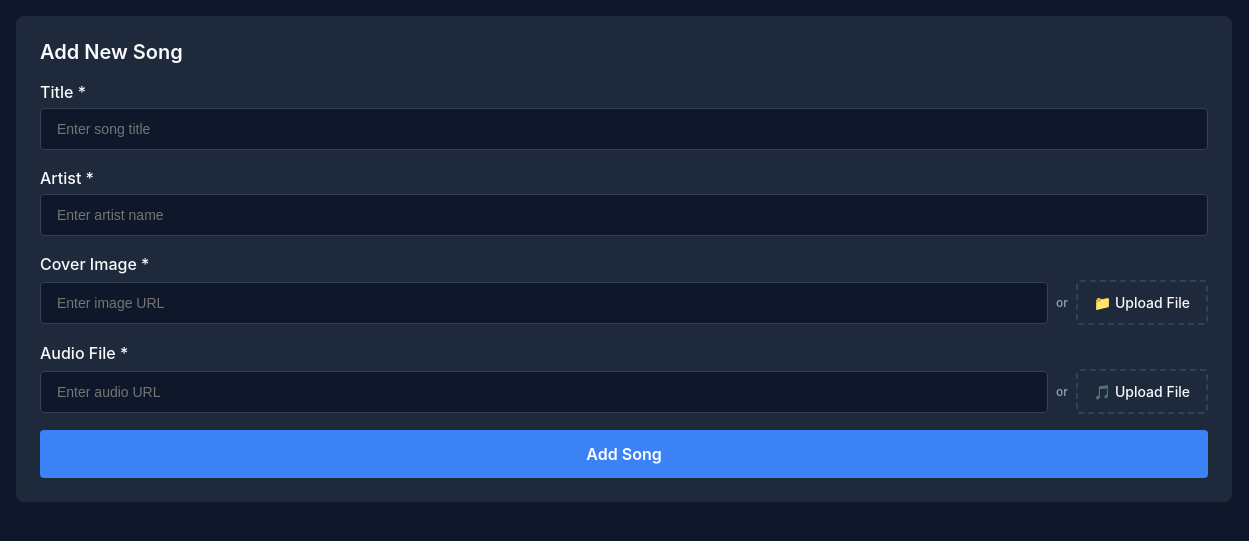
Test: AddSongForm Component › Form Validation - Errors › should show error when title is empty
In the field labelled "Artist *": coordinates (624, 215) [40,194,1208,236], type "Artist"
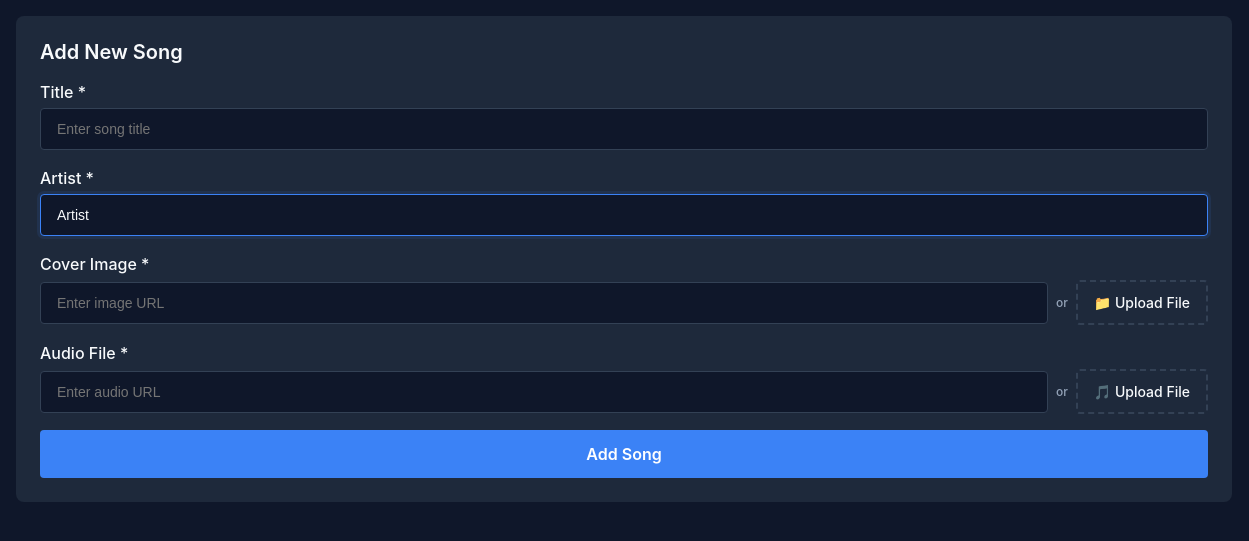
In the field labelled "Cover Image *": coordinates (544, 302) [40,282,1048,324], type "https://example.com/cover.jpg"
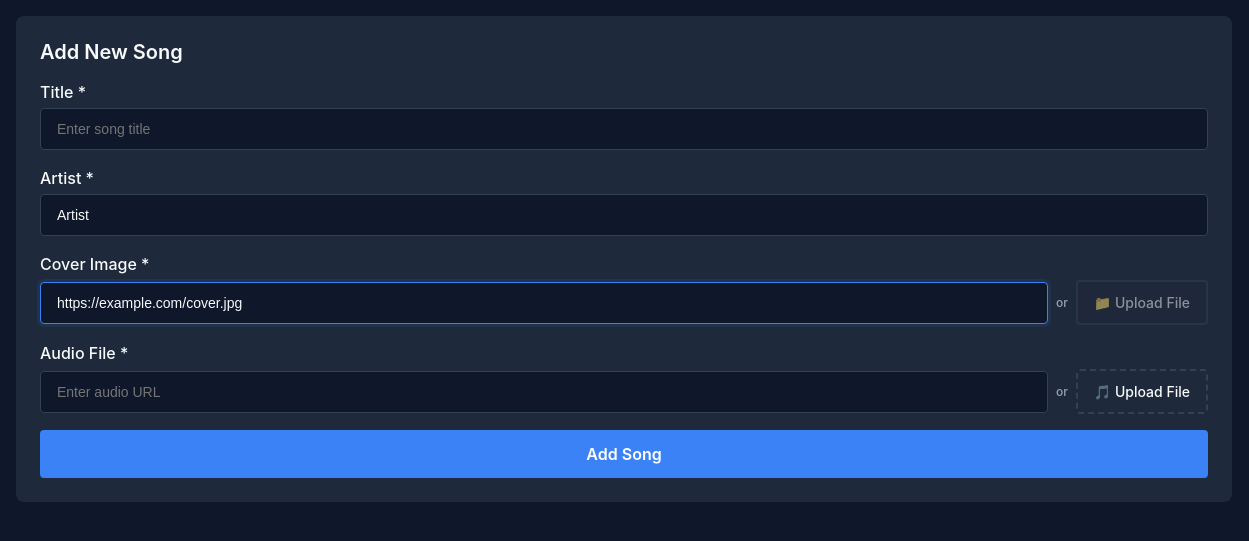
In the field labelled "Audio File *": coordinates (544, 392) [40,370,1048,412], type "https://example.com/song.mp3"
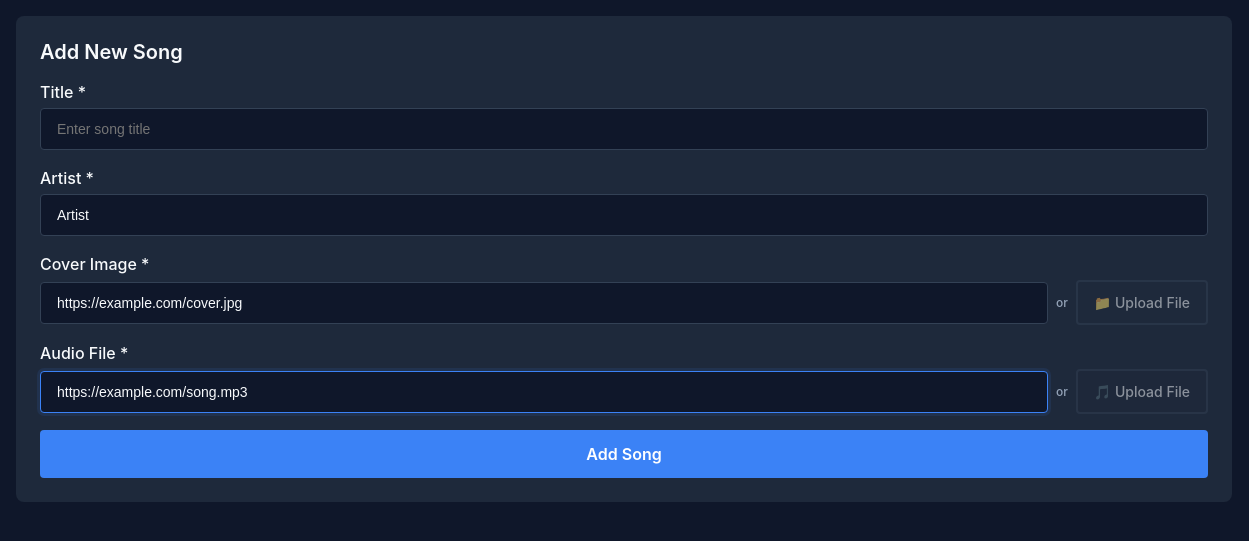
Click the button "Add Song": coordinates (624, 454) [40,430,1208,478]
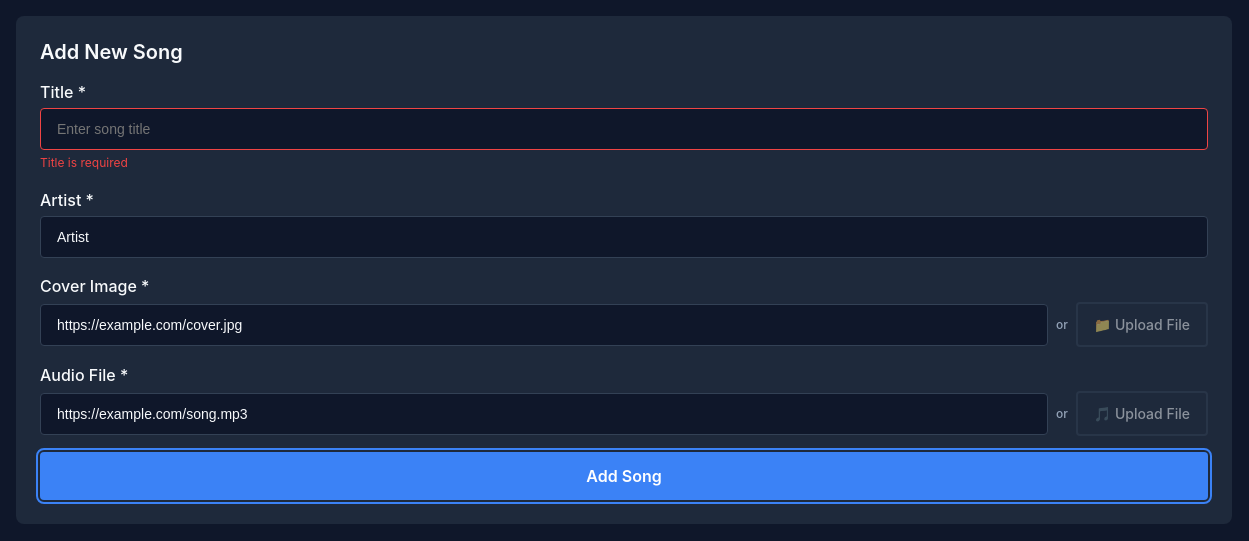
Now the text "Title is required" is shown, box [40,155,128,170]
